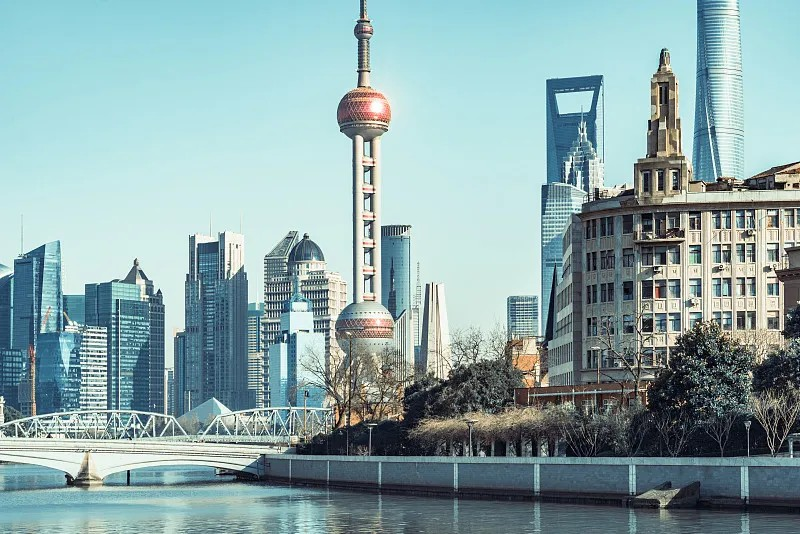Oriental: (335, 1, 396, 373)
